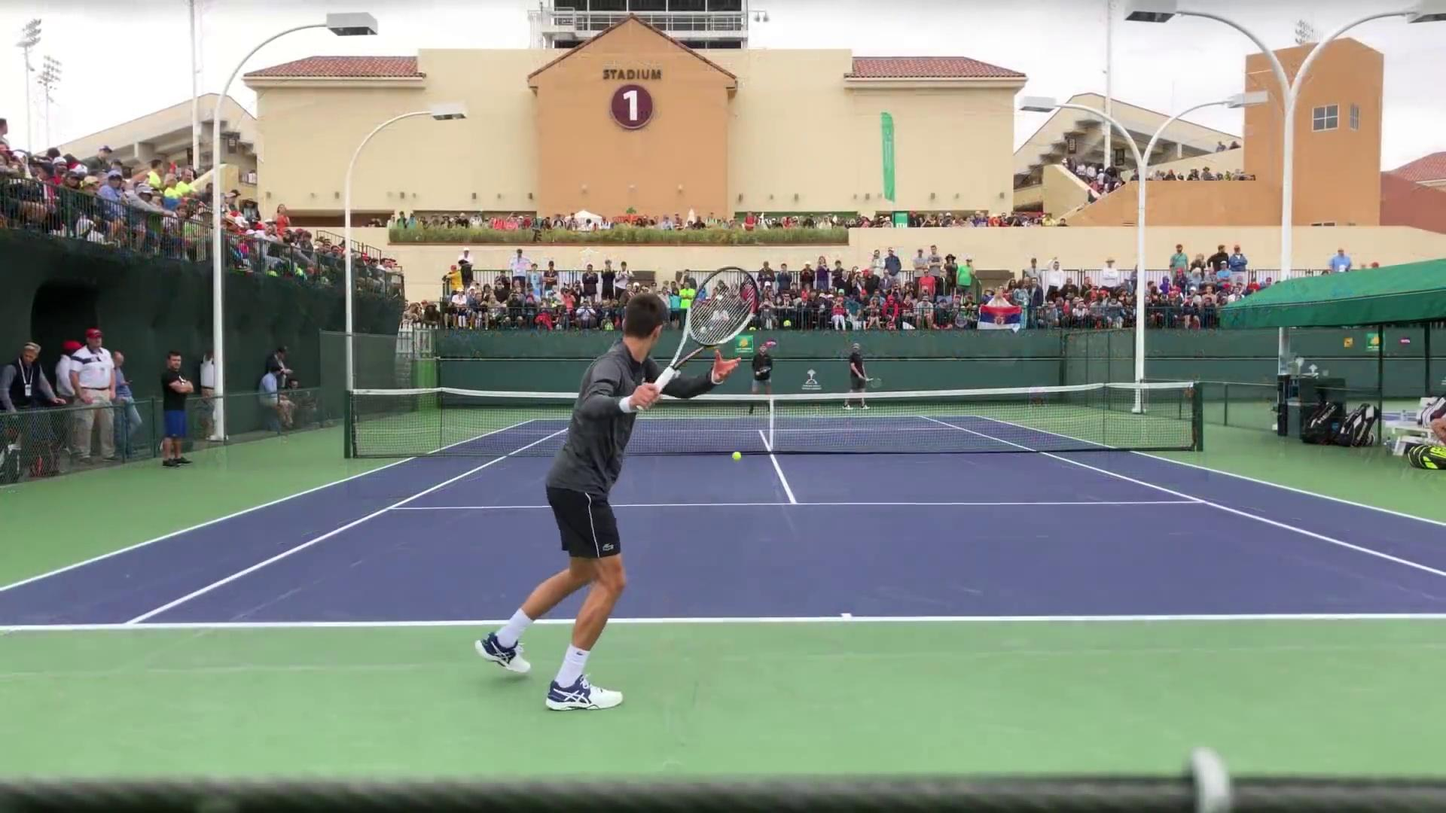ball: (729, 447, 743, 461)
